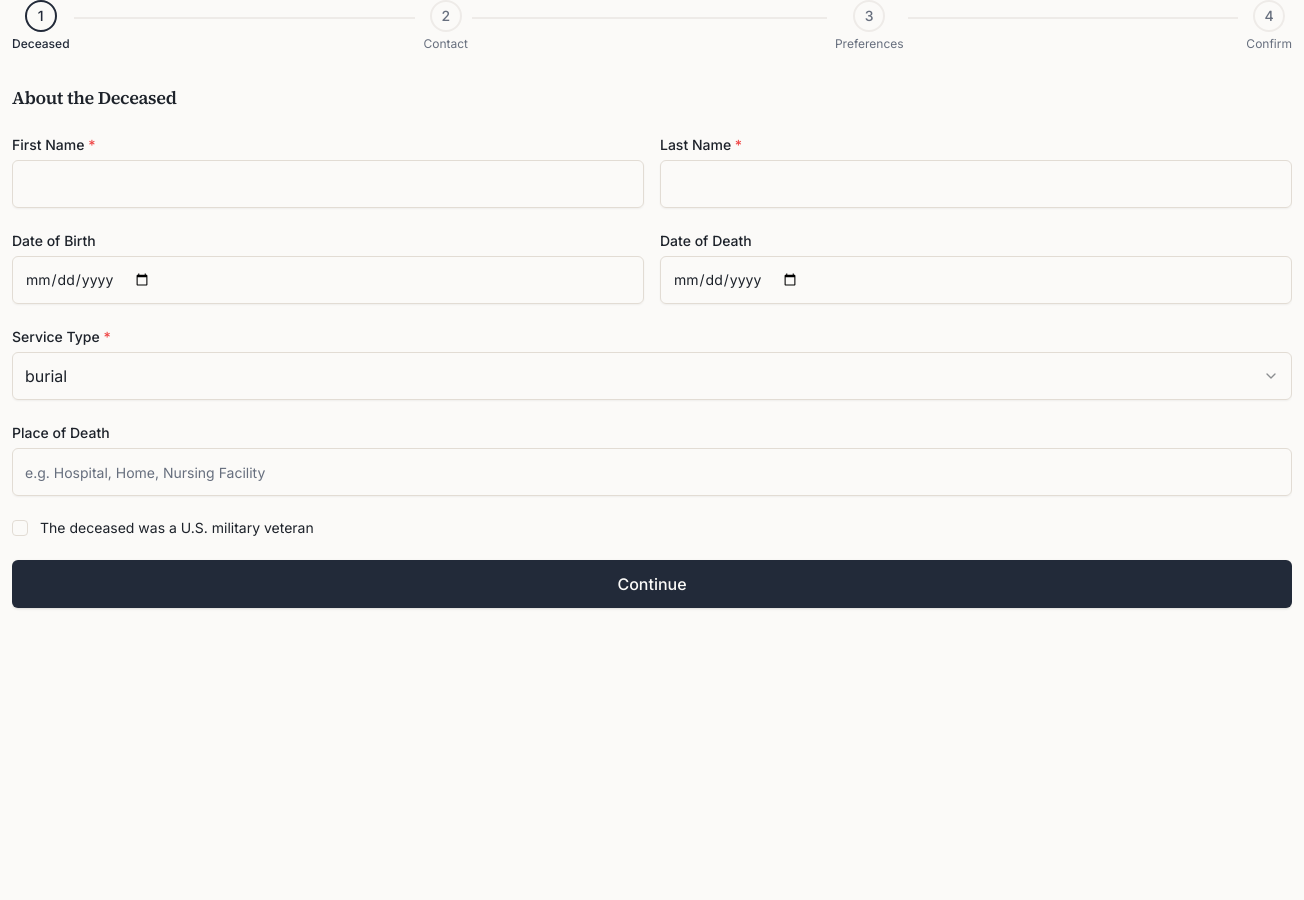
it: IntakeForm › shows validation error when Continue clicked with empty first name
Note: Clear the first name input (default is empty)
Step 1. Clear the field labelled "First Name *" → (328, 184), box x1=12 y1=160 x2=644 y2=208
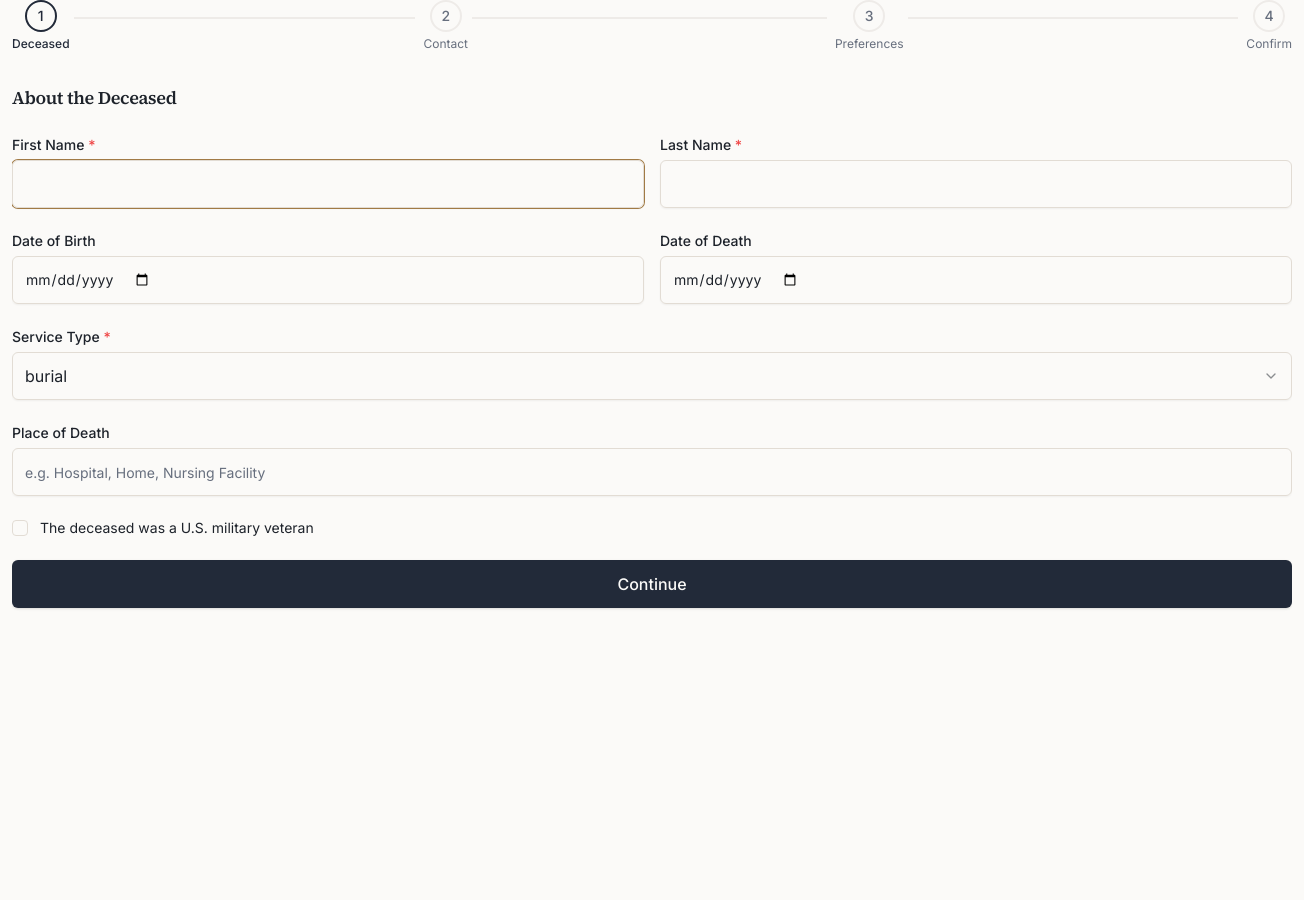
Note: Click Continue
Step 2. Click the button "Continue" → (652, 584), box x1=12 y1=560 x2=1292 y2=608
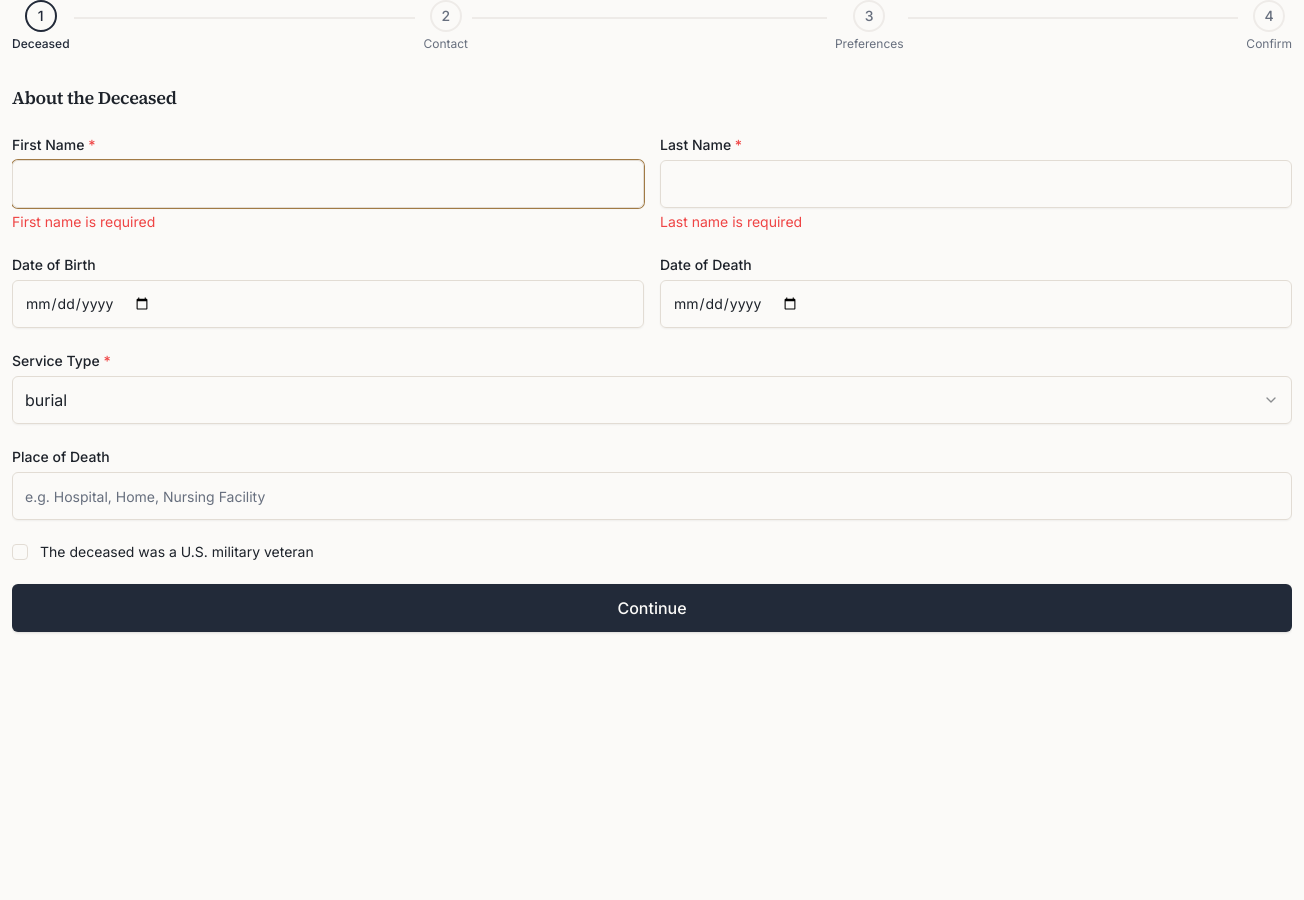
Now the text "First name is required" is shown, box x1=12 y1=213 x2=155 y2=230
